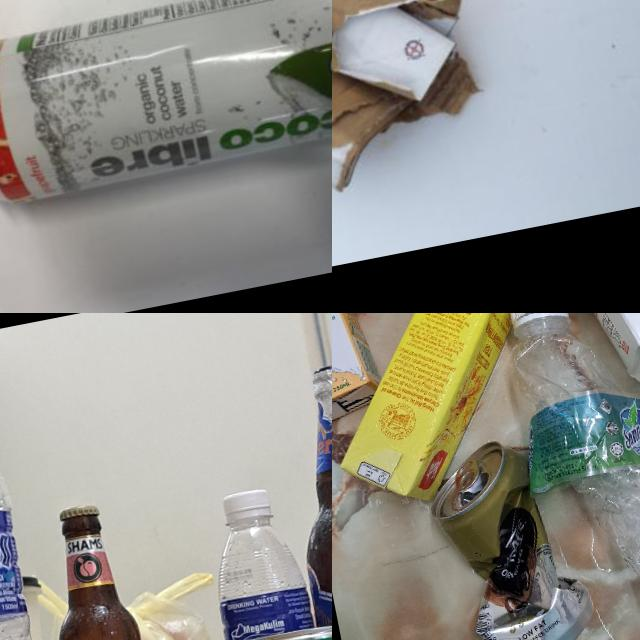aba de lata: (450, 458, 481, 493)
caixinha: (332, 313, 560, 519), (447, 313, 640, 451)
garrafa de vidro: (29, 499, 157, 640), (270, 360, 332, 640)
garrafa plástica: (503, 313, 640, 640), (204, 512, 325, 640)
lata: (0, 0, 332, 217), (418, 428, 602, 640), (243, 618, 332, 640)
papelão: (332, 0, 498, 220)
tampa plástica: (220, 488, 272, 522), (505, 313, 569, 329)
